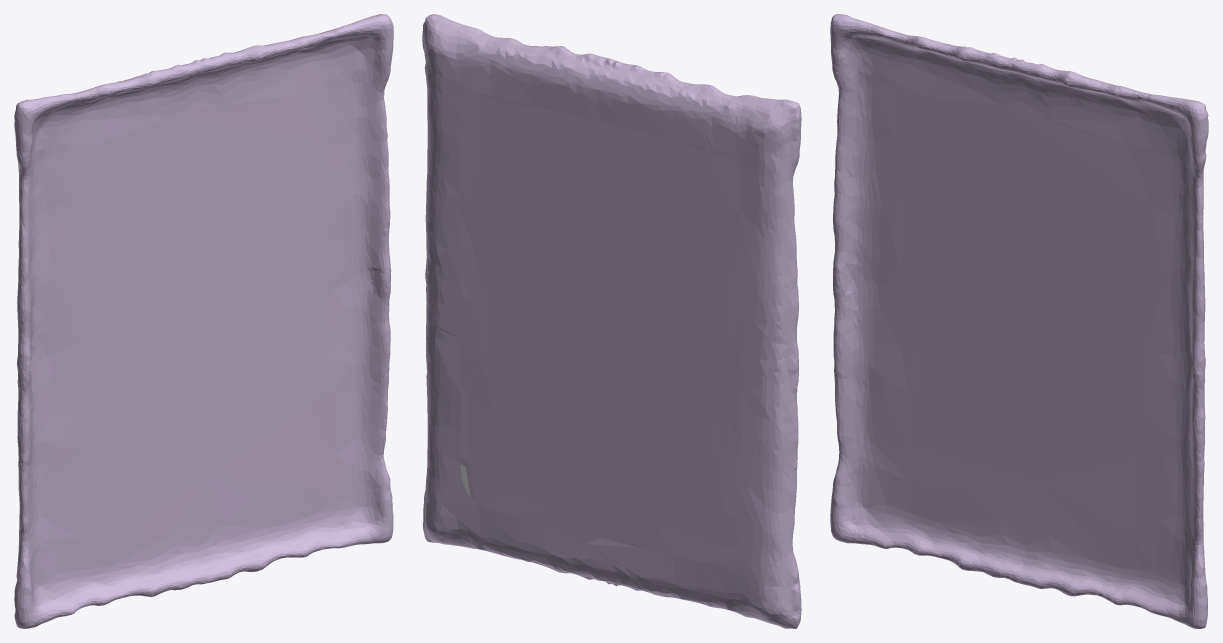
The model's file is info_card-bIDHmpHX.glb.
3 views of the same model, side by side, from view 1: azimuth 30°, elevation 25°; view 2: azimuth 150°, elevation 25°; view 3: azimuth 330°, elevation 25° (orthographic).
Parts seen in each view (by area): view 1: frame; view 2: frame; view 3: frame.
Boxes of the visible parts, left/top/right/bottom form: frame: left=14, top=14, right=393, bottom=628; frame: left=422, top=14, right=801, bottom=628; frame: left=830, top=14, right=1208, bottom=628.
Size of the model in its own units: 0.4335 by 0.5803 by 0.0349.
